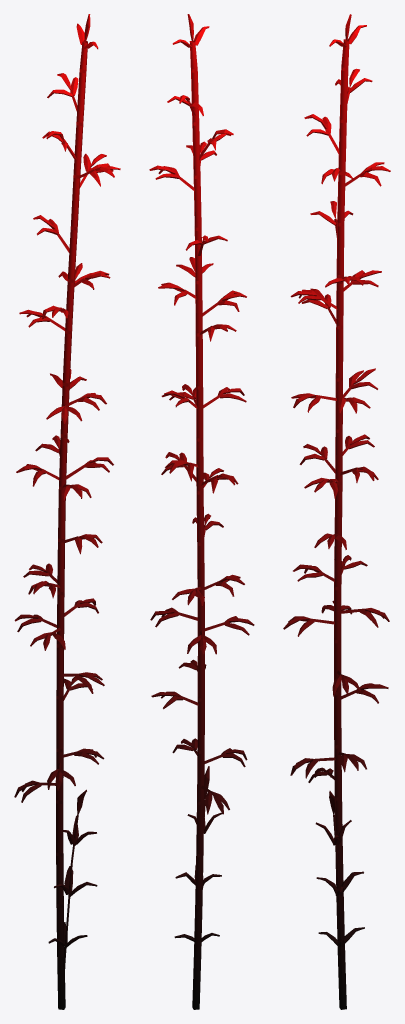
Rendered from TreeBambooTall03.fbx.
The picture shows the model from 3 angles, left to right: view 1: azimuth 30°, elevation 25°; view 2: azimuth 150°, elevation 25°; view 3: azimuth 330°, elevation 25°; orthographic projection. The views are drawn at different scales.
Visible parts, largest first — view 1: TreeBambooTall03_LOD0; view 2: TreeBambooTall03_LOD0; view 3: TreeBambooTall03_LOD0.
Part boxes in pixels (bbox=[...]): TreeBambooTall03_LOD0: bbox=[14, 14, 120, 1009]; TreeBambooTall03_LOD0: bbox=[149, 14, 254, 1009]; TreeBambooTall03_LOD0: bbox=[283, 14, 390, 1009].
Size of what is drawn, in the model's own units: 111 by 1185 by 111.
